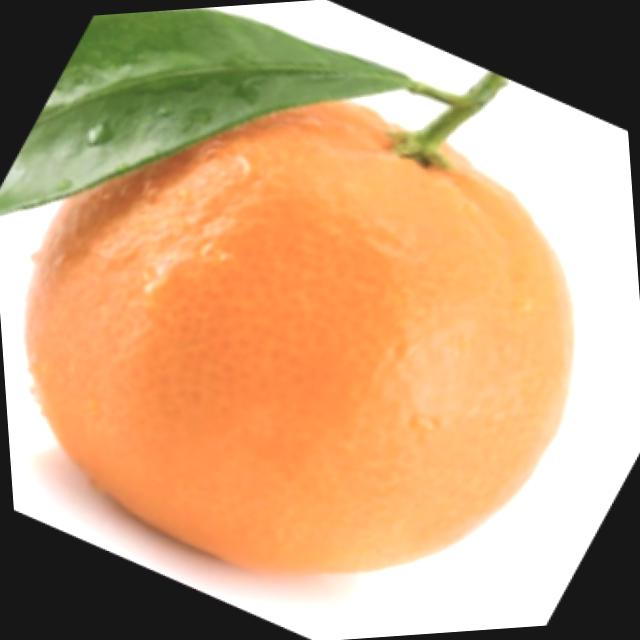orange: (0, 64, 592, 604)
